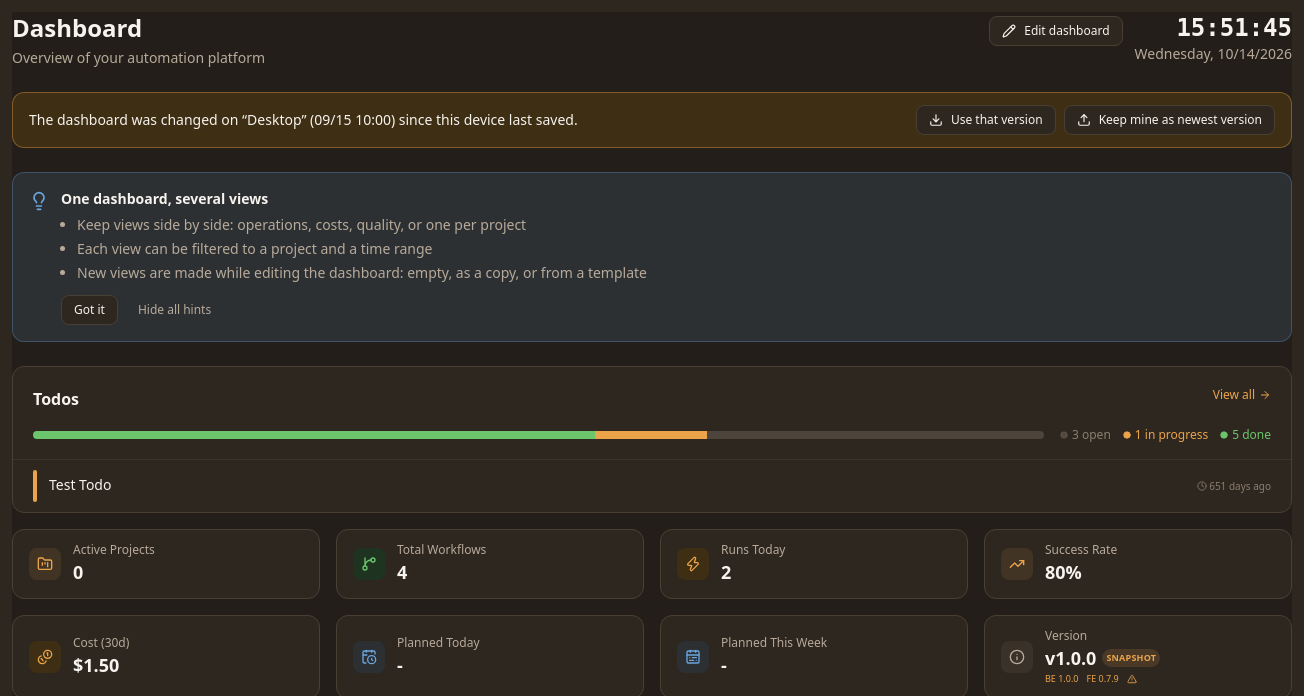
it: Dashboard layout › asks before replacing local changes with a newer server layout
Expected: the message with test id "layout-sync-conflict" shows "Desktop", [29,110,578,129]
What coordinates should you click on to do the following:
click the button "Keep mine as newest version"
I would click on:
 (1169, 120)
Its box is [1064,105,1275,135].
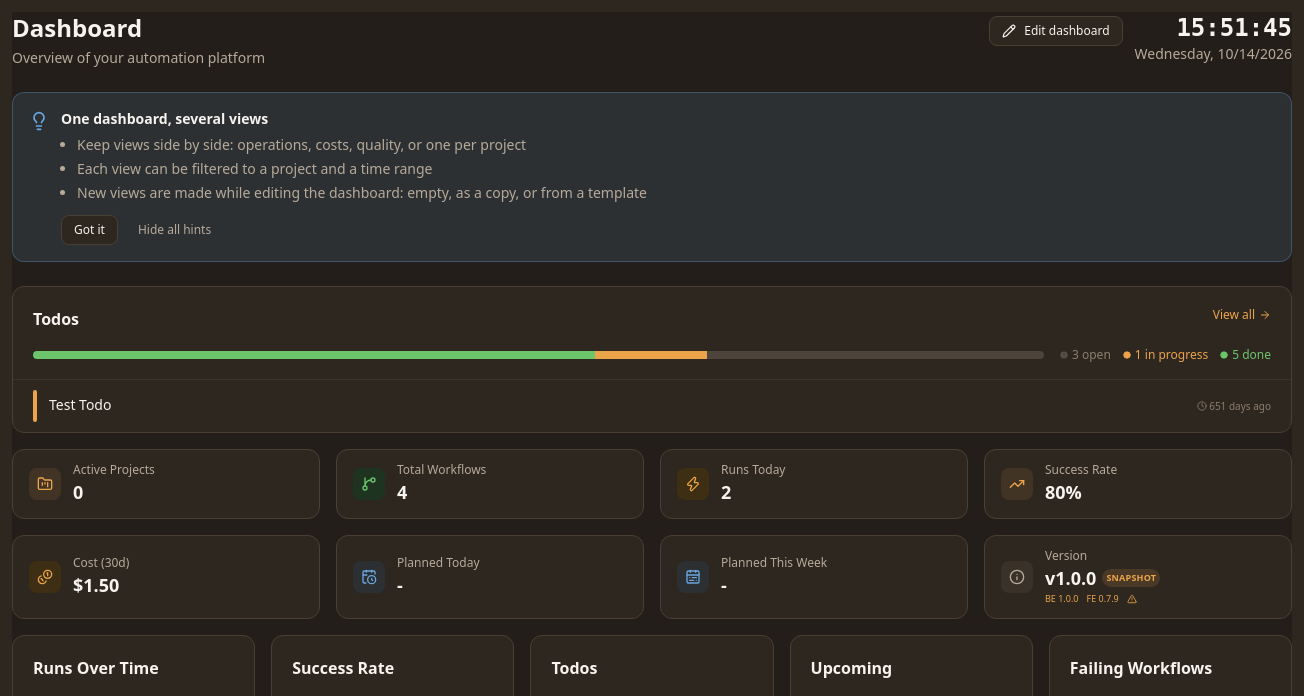
Now the message with test id "layout-sync-conflict" is gone
